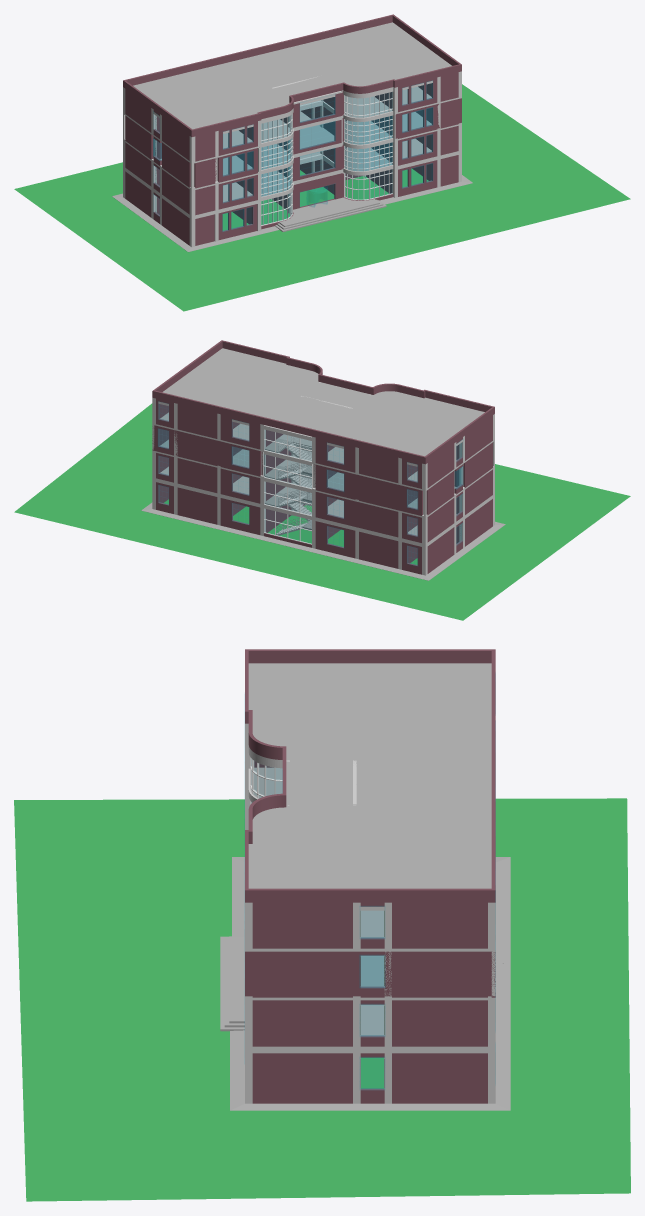
File: building.glb
The picture shows the model from 3 angles, top to bottom: view 1: azimuth 30°, elevation 25°; view 2: azimuth 150°, elevation 25°; view 3: azimuth 270°, elevation 25°; orthographic projection. The views are drawn at different scales.
Visible parts, largest first — view 1: product-2e3464aa-6cde-4f30-941d-fc6056c30808-body, product-a1e33662-5339-41cb-a651-cc7cb1a26a96-body, product-a1e33662-5339-41cb-a651-cc7cb1a26a9d-body, product-aae8ba37-e9b6-4fda-acc7-136dc1fc60a3-body, product-4e7a0def-1395-4c87-969b-b90530333ca3-body, product-3efd4315-df2d-4208-b35f-322308f92ae5-body, product-a1e33662-5339-41cb-a651-cc7cb1a26360-body, product-a1e33662-5339-41cb-a651-cc7cb1a26afd-body, product-e83d741e-5c90-4116-8314-27a66055de18-body, product-4e7a0def-1395-4c87-969b-b9053033348c-body, product-a1e33662-5339-41cb-a651-cc7cb1a26adb-body, product-4e7a0def-1395-4c87-969b-b90530333f09-body (+36 smaller); view 2: product-2e3464aa-6cde-4f30-941d-fc6056c30808-body, product-4e7a0def-1395-4c87-969b-b90530333ab8-body, product-de5b2d13-648f-4ed7-8719-db9f2ef1d8b7-body, product-aae8ba37-e9b6-4fda-acc7-136dc1fc60a3-body, product-3efd4315-df2d-4208-b35f-322308f92ae1-body, product-a1e33662-5339-41cb-a651-cc7cb1a25c62-body, product-a1e33662-5339-41cb-a651-cc7cb1a2636c-body, product-a1e33662-5339-41cb-a651-cc7cb1a26318-body, product-de5b2d13-648f-4ed7-8719-db9f2ef22ab3-body, product-a1e33662-5339-41cb-a651-cc7cb1a25c1e-body, product-e83d741e-5c90-4116-8314-27a66055de18-body, product-a1e33662-5339-41cb-a651-cc7cb1a26a9d-body (+27 smaller); view 3: product-2e3464aa-6cde-4f30-941d-fc6056c30808-body, product-4e7a0def-1395-4c87-969b-b90530333be7-body, product-a1e33662-5339-41cb-a651-cc7cb1a25c60-body, product-3efd4315-df2d-4208-b35f-322308f92ae3-body, product-a1e33662-5339-41cb-a651-cc7cb1a2636a-body, product-a1e33662-5339-41cb-a651-cc7cb1a26a96-body, product-e83d741e-5c90-4116-8314-27a66055de18-body, product-a1e33662-5339-41cb-a651-cc7cb1a26a9d-body, product-a1e33662-5339-41cb-a651-cc7cb1a26026-body, product-a1e33662-5339-41cb-a651-cc7cb1a26adb-body, product-a1e33662-5339-41cb-a651-cc7cb1a26ac0-body, product-a1e33662-5339-41cb-a651-cc7cb1a26ae2-body (+19 smaller).
Boxes of the visible parts, x1,y1,x2,y2 form: product-2e3464aa-6cde-4f30-941d-fc6056c30808-body: (14, 84, 630, 311); product-a1e33662-5339-41cb-a651-cc7cb1a26a96-body: (150, 61, 262, 102); product-a1e33662-5339-41cb-a651-cc7cb1a26a9d-body: (286, 27, 399, 68); product-aae8ba37-e9b6-4fda-acc7-136dc1fc60a3-body: (123, 14, 394, 87); product-4e7a0def-1395-4c87-969b-b90530333ca3-body: (125, 171, 189, 245); product-3efd4315-df2d-4208-b35f-322308f92ae5-body: (125, 142, 189, 214); product-a1e33662-5339-41cb-a651-cc7cb1a26360-body: (125, 89, 189, 160); product-a1e33662-5339-41cb-a651-cc7cb1a26afd-body: (314, 43, 451, 75); product-e83d741e-5c90-4116-8314-27a66055de18-body: (112, 175, 472, 252); product-4e7a0def-1395-4c87-969b-b9053033348c-body: (398, 155, 458, 196); product-a1e33662-5339-41cb-a651-cc7cb1a26adb-body: (161, 81, 271, 129); product-4e7a0def-1395-4c87-969b-b90530333f09-body: (195, 204, 257, 245); product-2e3464aa-6cde-4f30-941d-fc6056c30808-body: (14, 403, 630, 620); product-4e7a0def-1395-4c87-969b-b90530333ab8-body: (315, 521, 421, 574); product-de5b2d13-648f-4ed7-8719-db9f2ef1d8b7-body: (156, 482, 260, 534); product-aae8ba37-e9b6-4fda-acc7-136dc1fc60a3-body: (152, 390, 426, 464); product-3efd4315-df2d-4208-b35f-322308f92ae1-body: (315, 492, 421, 542); product-a1e33662-5339-41cb-a651-cc7cb1a25c62-body: (315, 464, 422, 515); product-a1e33662-5339-41cb-a651-cc7cb1a2636c-body: (315, 437, 421, 488); product-a1e33662-5339-41cb-a651-cc7cb1a26318-body: (156, 398, 260, 449); product-de5b2d13-648f-4ed7-8719-db9f2ef22ab3-body: (156, 453, 260, 503); product-a1e33662-5339-41cb-a651-cc7cb1a25c1e-body: (156, 425, 261, 475); product-e83d741e-5c90-4116-8314-27a66055de18-body: (141, 502, 505, 580); product-a1e33662-5339-41cb-a651-cc7cb1a26a9d-body: (184, 381, 291, 418); product-2e3464aa-6cde-4f30-941d-fc6056c30808-body: (14, 798, 630, 1201); product-4e7a0def-1395-4c87-969b-b90530333be7-body: (252, 1053, 487, 1103); product-a1e33662-5339-41cb-a651-cc7cb1a25c60-body: (245, 951, 491, 996); product-3efd4315-df2d-4208-b35f-322308f92ae3-body: (252, 1000, 487, 1046); product-a1e33662-5339-41cb-a651-cc7cb1a2636a-body: (252, 902, 487, 948); product-a1e33662-5339-41cb-a651-cc7cb1a26a96-body: (388, 684, 491, 760); product-e83d741e-5c90-4116-8314-27a66055de18-body: (230, 857, 510, 1110); product-a1e33662-5339-41cb-a651-cc7cb1a26a9d-body: (388, 806, 491, 881); product-a1e33662-5339-41cb-a651-cc7cb1a26026-body: (252, 951, 487, 997); product-a1e33662-5339-41cb-a651-cc7cb1a26adb-body: (248, 663, 388, 760); product-a1e33662-5339-41cb-a651-cc7cb1a26ac0-body: (248, 684, 356, 722); product-a1e33662-5339-41cb-a651-cc7cb1a26ae2-body: (248, 844, 356, 881).
Size of the model in its own units: 63.59 by 16 by 41.13.
